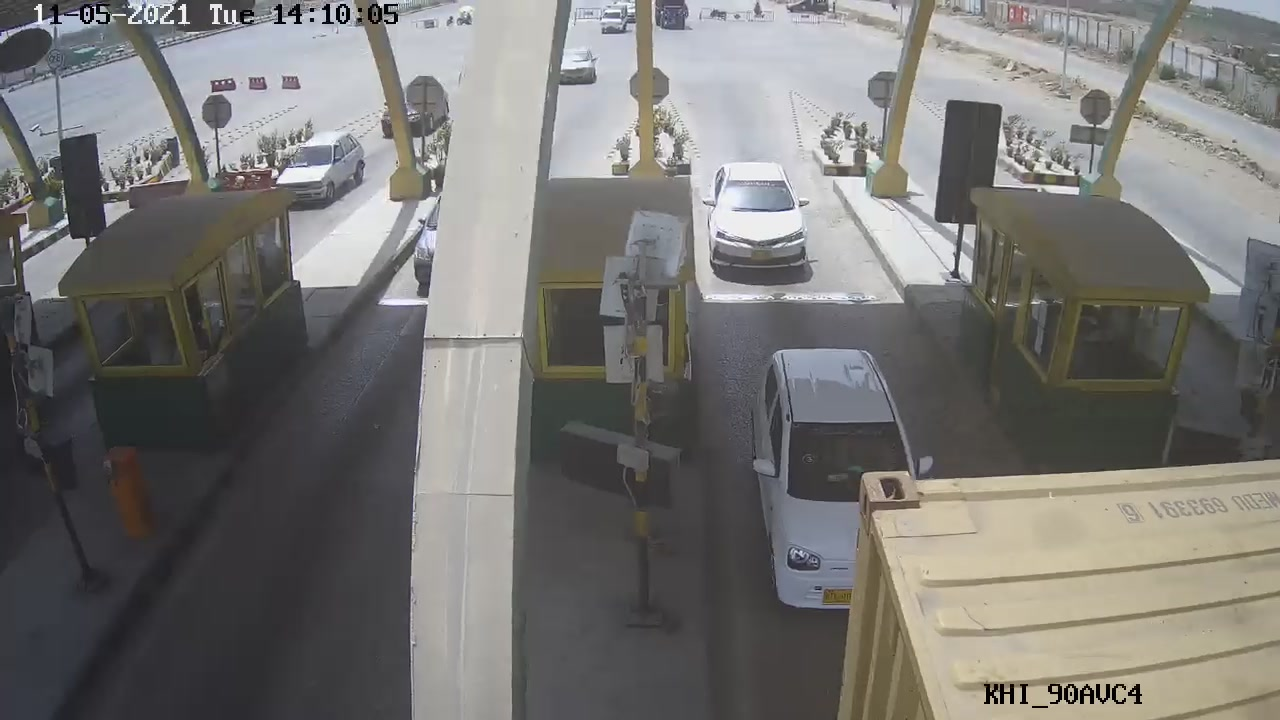F1: (702, 159, 826, 281)
